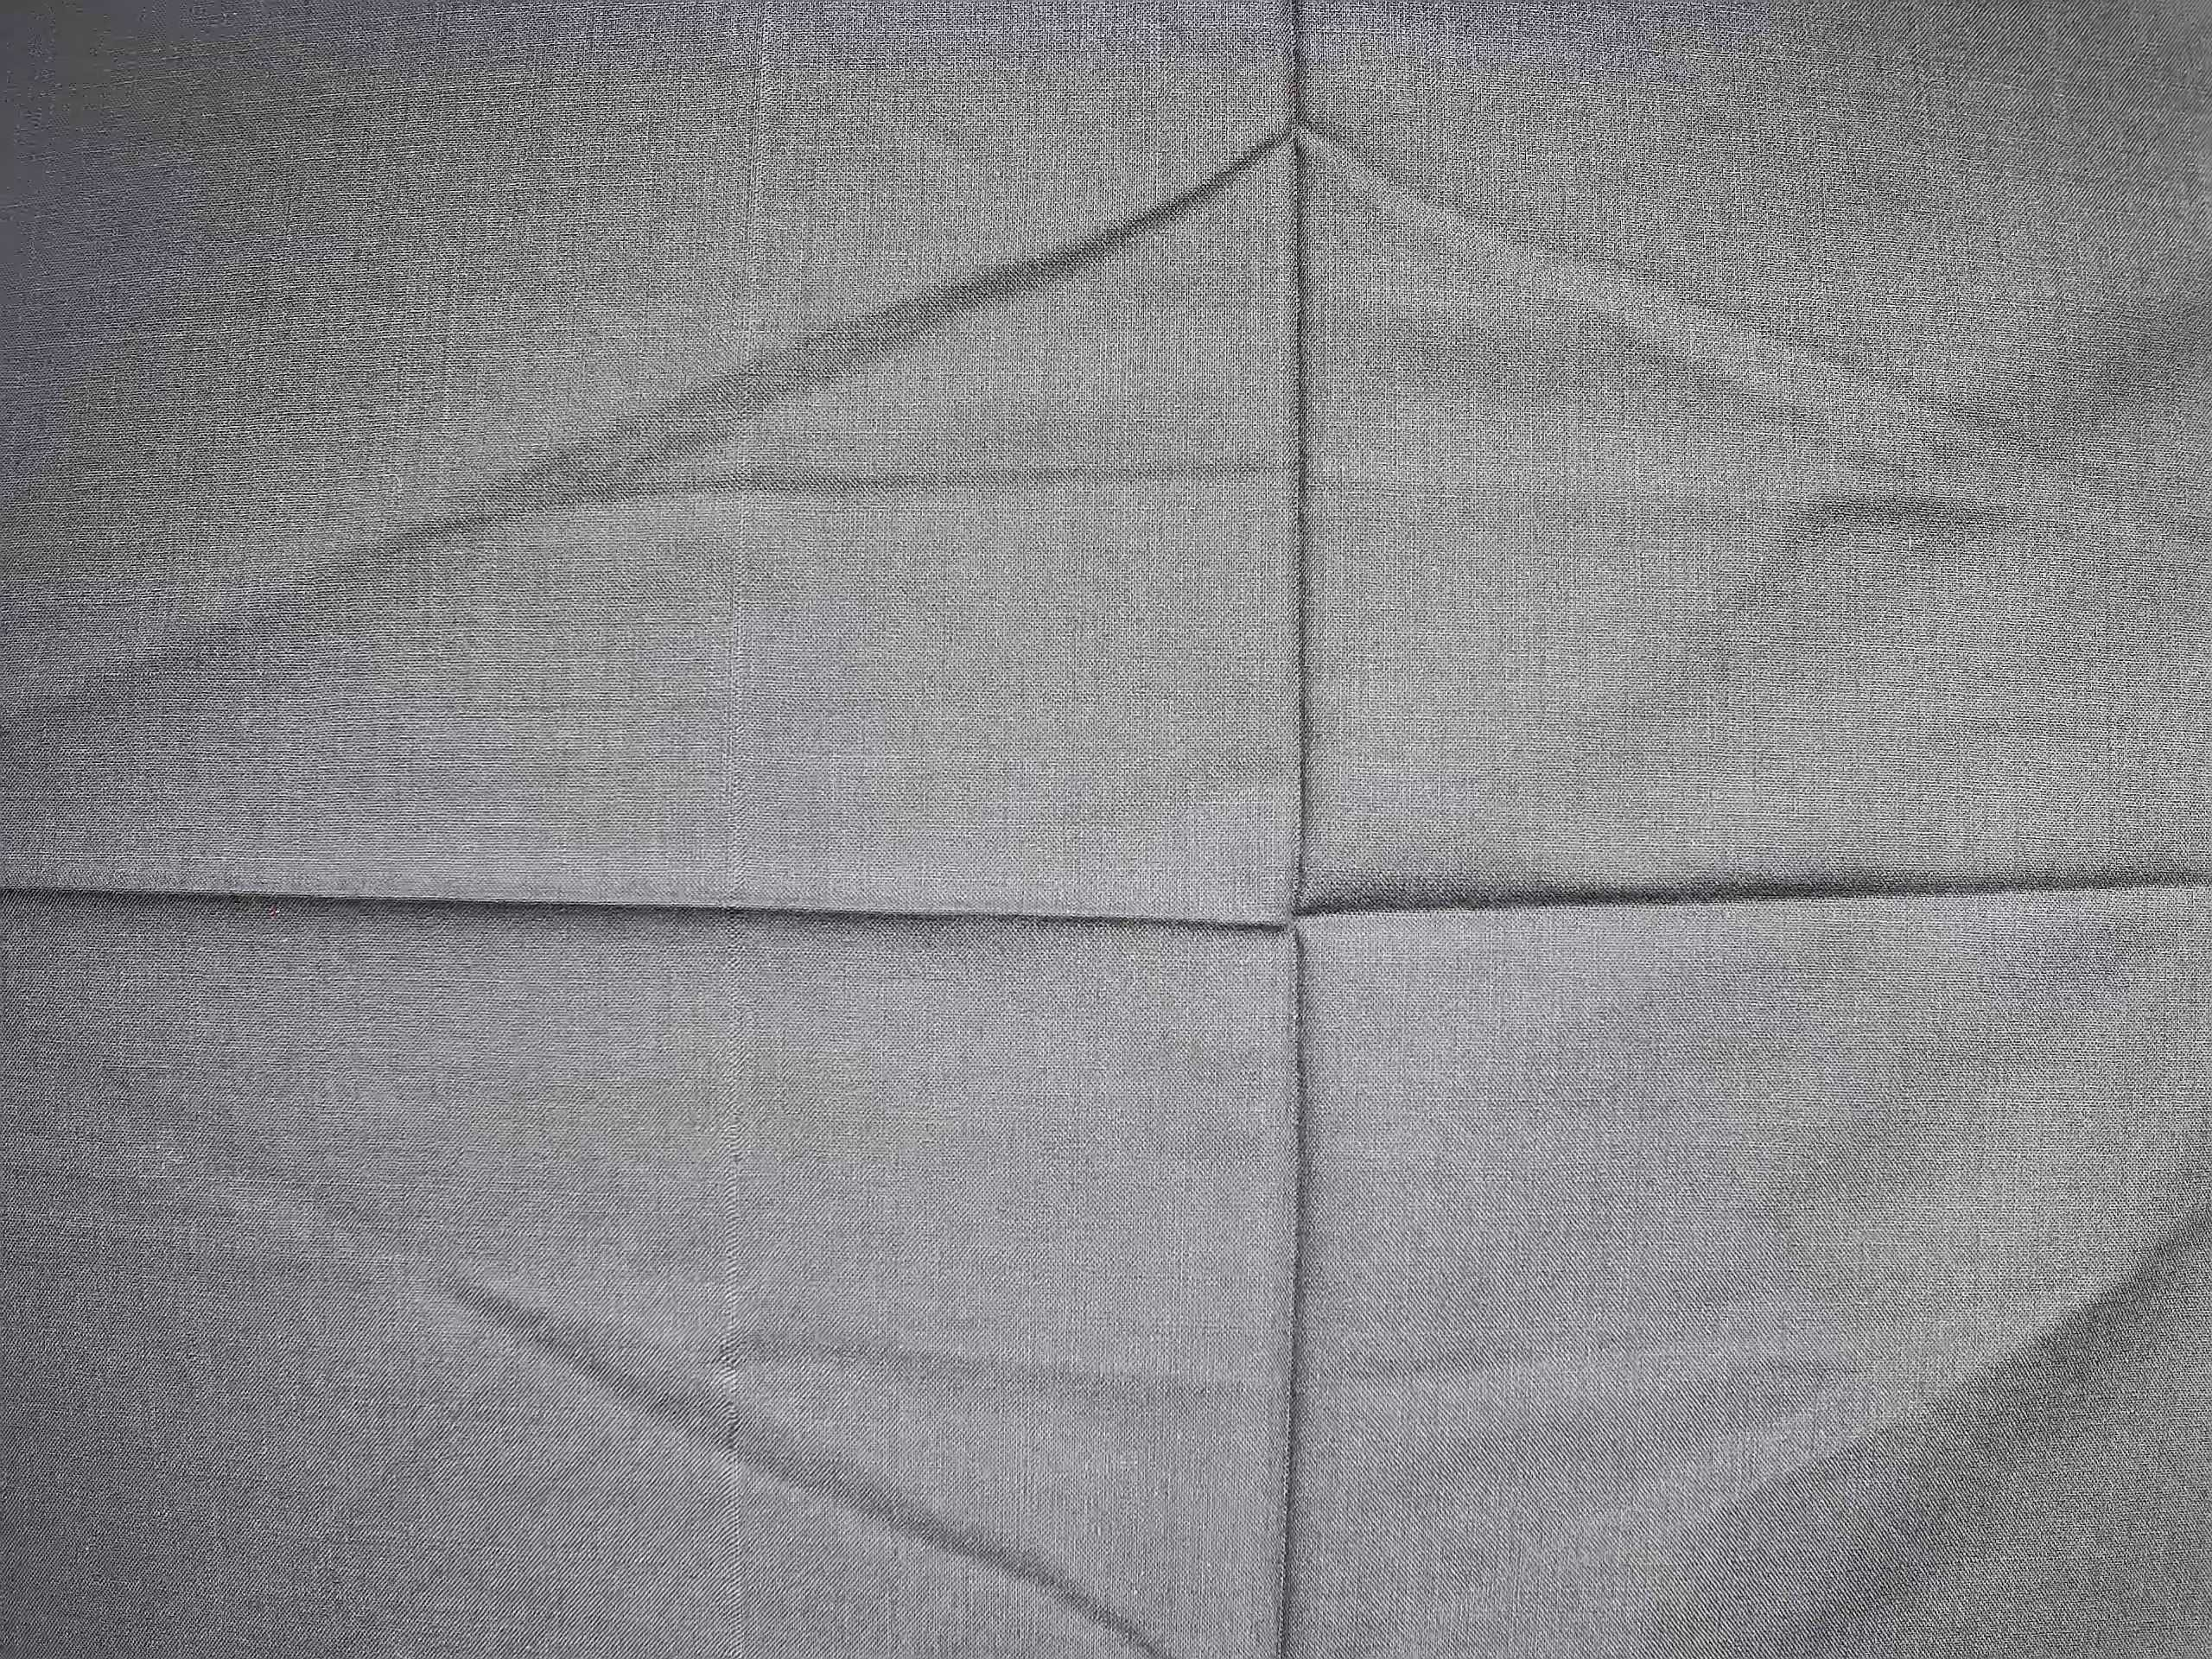hanging-warp: (719, 7, 779, 1642)
